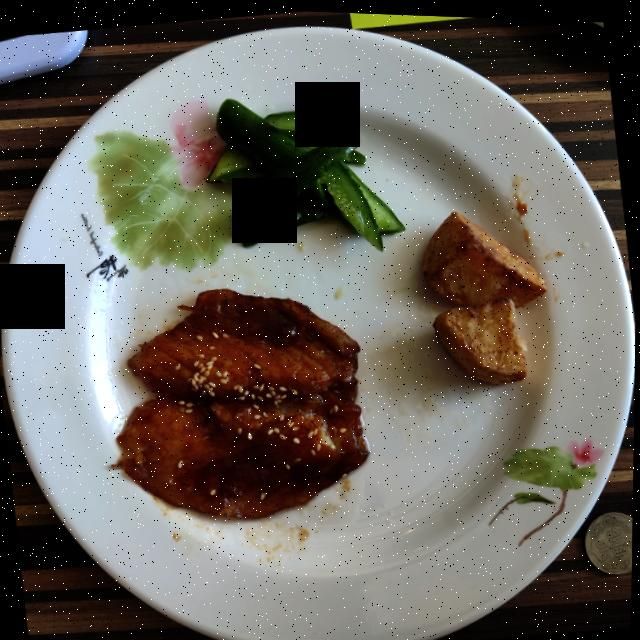Kabayaki sea bream fillet: (117, 288, 369, 516)
coin: (585, 507, 634, 569)
cucumber: (207, 97, 404, 247)
fried potato: (422, 208, 546, 381)
